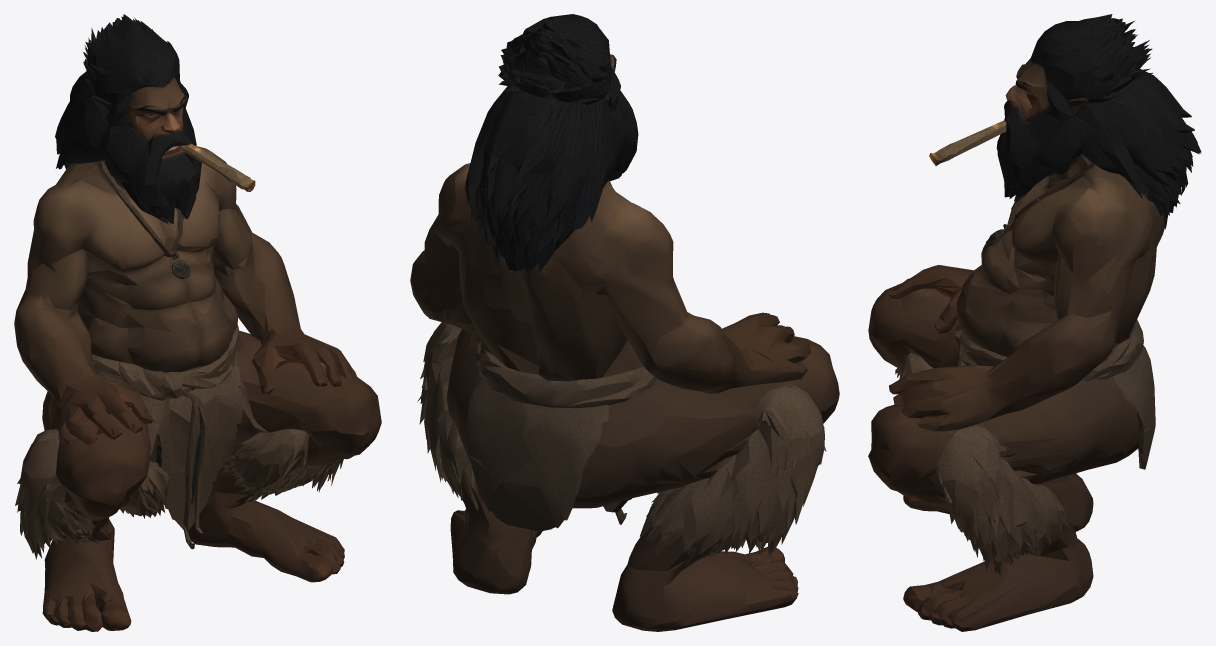
File: kapre.glb
3 renders of one model, left to right at view 1: azimuth 30°, elevation 25°; view 2: azimuth 150°, elevation 25°; view 3: azimuth 270°, elevation 25°, orthographic. The views are drawn at different scales.
Parts seen in each view (by area): view 1: mesh_node; view 2: mesh_node; view 3: mesh_node.
Boxes of the visible parts, x1,y1,x2,y2 form: mesh_node: (14, 14, 381, 631); mesh_node: (410, 14, 839, 631); mesh_node: (868, 14, 1201, 631).
Bounding box in the file's own units: 1.27 × 1.89 × 1.05.
1 material, 1 textured.
